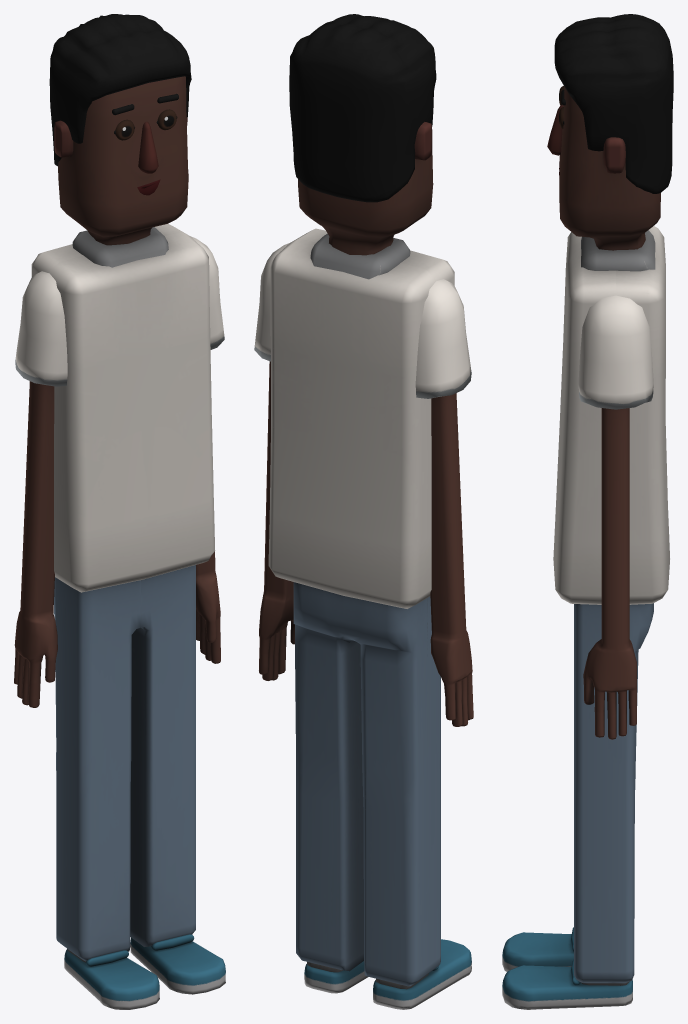
Rendered from Rubenoid_MaleGeneric_2.obj.
3 views of the same model, side by side, from view 1: azimuth 30°, elevation 25°; view 2: azimuth 150°, elevation 25°; view 3: azimuth 270°, elevation 25° (orthographic). The views are drawn at different scales.
Visible parts, largest first — view 1: BodyWhole_WholeArms Body, Body Hair1 Hair; view 2: BodyWhole_WholeArms Body, Body Hair1 Hair; view 3: BodyWhole_WholeArms Body, Body Hair1 Hair.
Part boxes in pixels (<box>): BodyWhole_WholeArms Body: <box>14,76,225,1009</box>; Body Hair1 Hair: <box>49,14,191,166</box>; BodyWhole_WholeArms Body: <box>254,122,473,1009</box>; Body Hair1 Hair: <box>289,14,436,202</box>; BodyWhole_WholeArms Body: <box>502,86,669,1009</box>; Body Hair1 Hair: <box>554,14,673,193</box>.
Size of the model in its own units: 39.95 by 182 by 29.58.
1 material, 1 textured.
